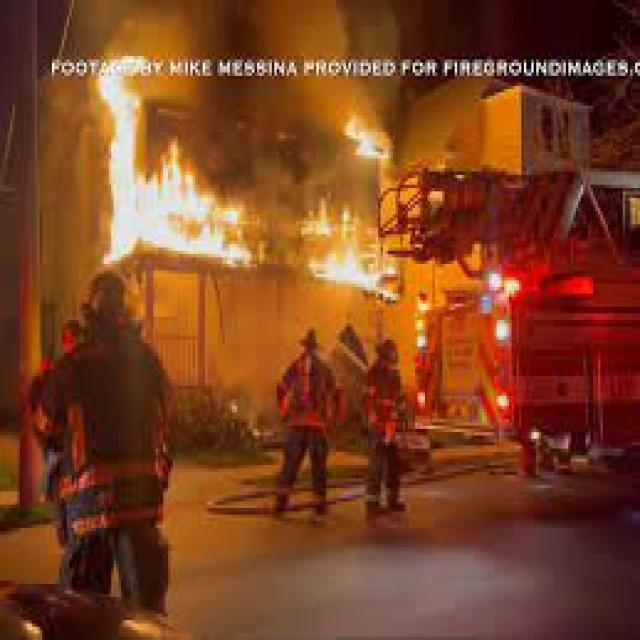Fire: (104, 73, 217, 287), (321, 230, 384, 312), (350, 109, 406, 161)
Smoke: (82, 0, 414, 62)
